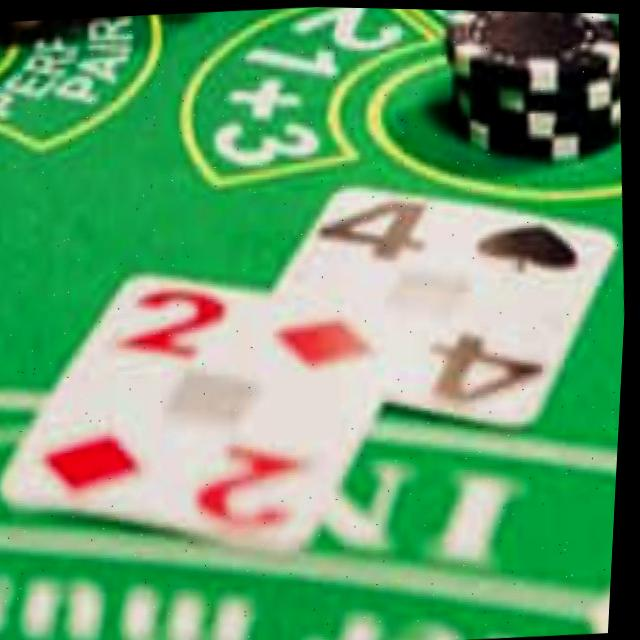Card-2: (5, 272, 411, 553)
Card-4: (273, 179, 620, 423)
